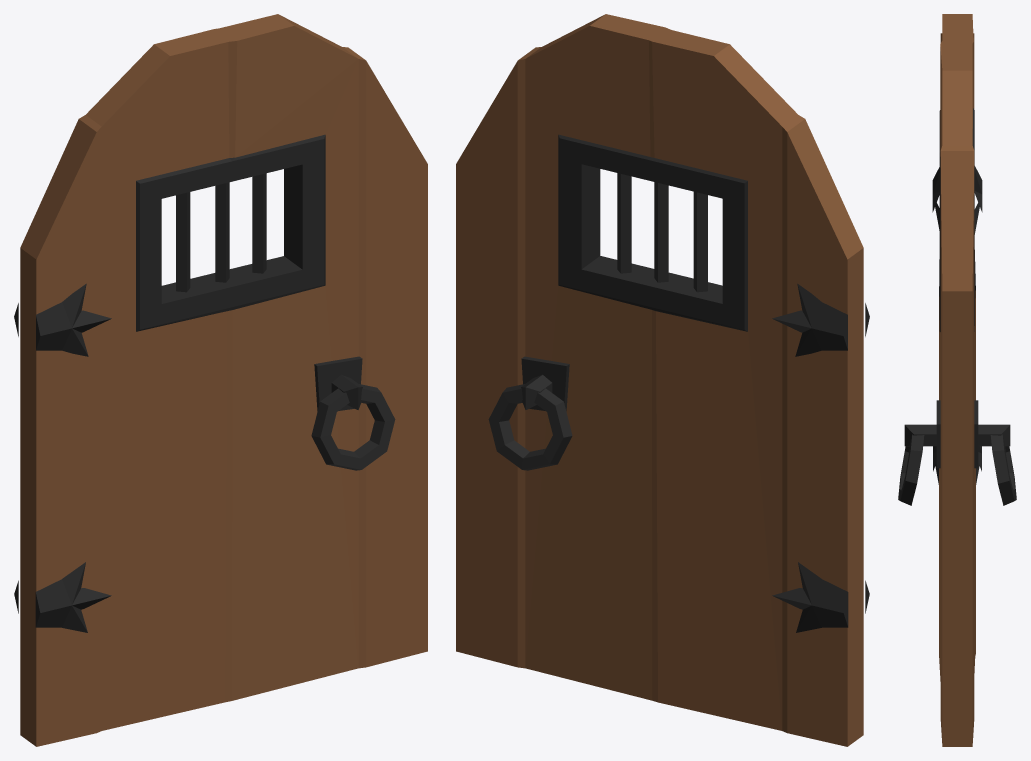
File: fantasy-door-wood.glb
3 renders of one model, left to right at view 1: azimuth 30°, elevation 25°; view 2: azimuth 150°, elevation 25°; view 3: azimuth 270°, elevation 25°, orthographic. The views are drawn at different scales.
Visible parts, largest first — view 1: door-wood; view 2: door-wood; view 3: door-wood.
Boxes of the visible parts, bbox=[...] form: door-wood: bbox=[14, 14, 427, 746]; door-wood: bbox=[456, 14, 869, 746]; door-wood: bbox=[898, 14, 1016, 746].
Size of the model in its own units: 1.4 by 2.25 by 0.3929.
